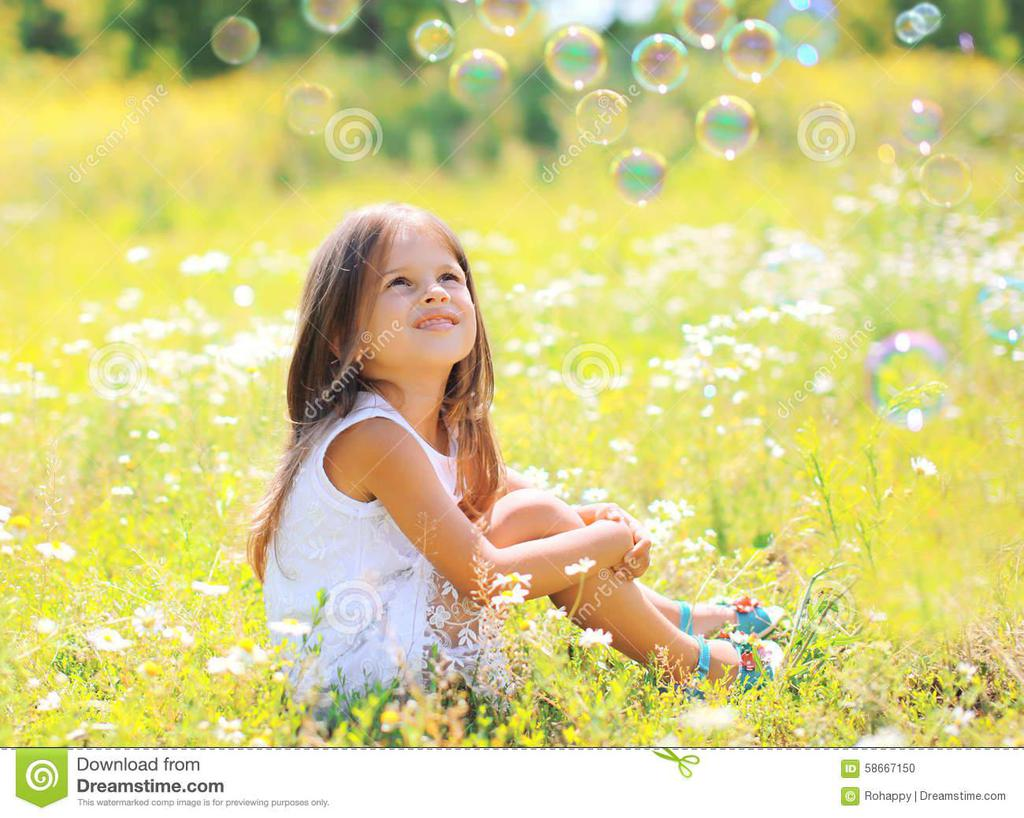child: (236, 201, 797, 710)
